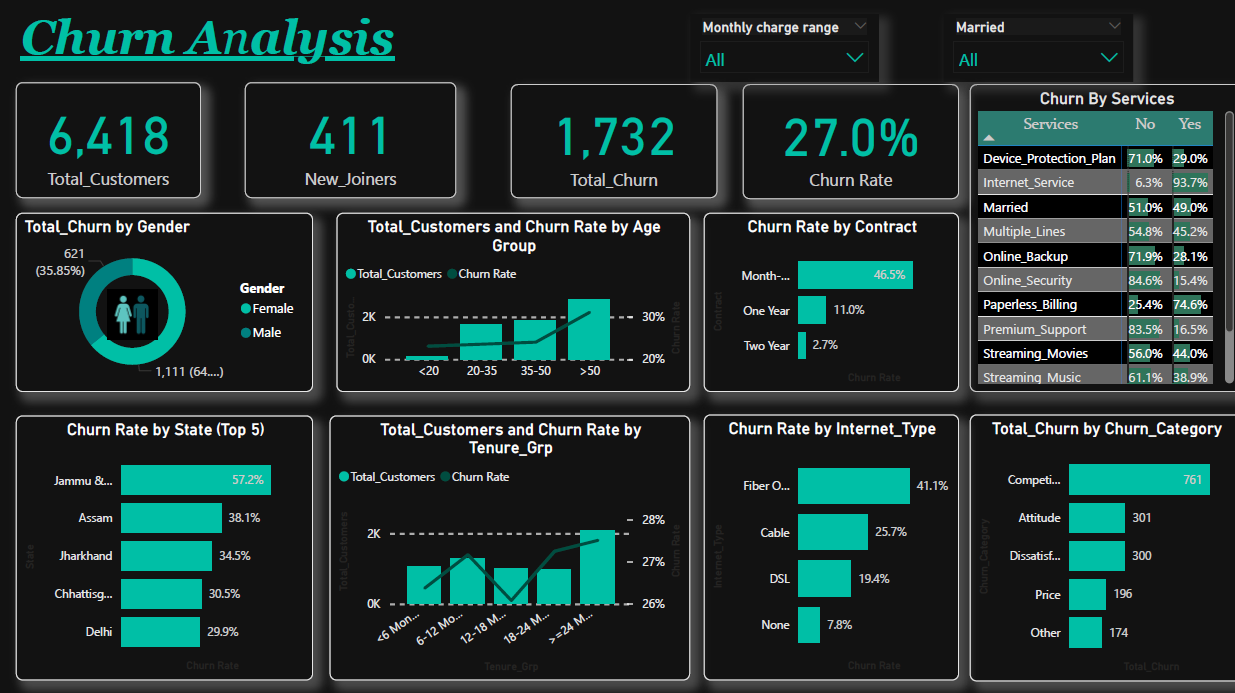

The page's visual inventory and layout, read from the dashboard file:
{"tool":"powerbi","page":{"name":"Summary","canvas":[1280,720],"ordinal":0},"visuals":[{"type":"card","fields":{"Values":["tbl_measures.Total_Customers"]},"box":[20.8,86.3,190.1,118.2],"z":0},{"type":"card","fields":{"Values":["tbl_measures.New_Joiners"]},"box":[255.6,86.3,217.3,118.2],"z":1000},{"type":"card","fields":{"Values":["tbl_measures.Total_Churn"]},"box":[528.8,87.9,212.5,116.6],"z":2000},{"type":"card","fields":{"Values":["tbl_measures.Churn Rate"]},"box":[766.9,87.9,222.1,118.2],"z":3000},{"type":"lineStackedColumnComboChart","fields":{"Category":["mapping_age_grp.Age Group"],"Y":["tbl_measures.Total_Customers"],"Y2":["tbl_measures.Churn Rate"]},"box":[349.9,220.5,362.7,183.7],"z":5000},{"type":"clusteredBarChart","fields":{"Y":["tbl_measures.Churn Rate"],"Category":["prod_Churn.Contract"]},"box":[726.9,220.5,262,183.7],"z":6000},{"type":"donutChart","fields":{"Y":["tbl_measures.Total_Churn"],"Series":["prod_Churn.Gender"]},"box":[20.8,220.5,305.2,183.7],"z":6500},{"type":"lineStackedColumnComboChart","fields":{"Y":["tbl_measures.Total_Customers"],"Y2":["tbl_measures.Churn Rate"],"Category":["mapping_tenure_grp.Tenure_Grp"]},"box":[343.5,428.2,369.1,271.6],"z":7000},{"type":"clusteredBarChart","title":"Churn Rate by State (Top 5)","fields":{"Category":["prod_Churn.State"],"Y":["tbl_measures.Churn Rate"]},"box":[20.8,428.2,305.2,271.6],"z":8000},{"type":"clusteredBarChart","fields":{"Y":["tbl_measures.Total_Churn"],"Category":["prod_Churn.Churn_Category"]},"box":[1000.1,426.6,279.6,274.8],"z":9000},{"type":"clusteredBarChart","fields":{"Category":["prod_Churn.Internet_Type"],"Y":["tbl_measures.Churn Rate"]},"box":[726.9,426.6,262,273.2],"z":10000},{"type":"image","box":[106,294,81.5,65.5],"z":10500},{"type":"pivotTable","title":"Churn By Services","fields":{"Rows":["prod_services.Services"],"Columns":["prod_services.Status"],"Values":["Sum(prod_services.Churn_Status)"]},"box":[1000.1,87.9,279.6,316.3],"z":11000},{"type":"slicer","fields":{"Values":["prod_Churn.Monthly charge status"]},"box":[712.6,16,194.9,70.3],"z":12000},{"type":"slicer","fields":{"Values":["prod_Churn.Married"]},"box":[973,16,194.9,70.3],"z":13000},{"type":"textbox","box":[20.8,8,436.2,113.4],"z":15000}]}

Visuals, with their boxes in screenshot pixels (x1, y1, x2, y2), scaled from the page's 1280x720 canvas onto the 1235x693 screenshot:
card - tbl_measures.Total_Customers: {"x1": 20, "y1": 83, "x2": 203, "y2": 197}
card - tbl_measures.New_Joiners: {"x1": 247, "y1": 83, "x2": 456, "y2": 197}
card - tbl_measures.Total_Churn: {"x1": 510, "y1": 85, "x2": 715, "y2": 197}
card - tbl_measures.Churn Rate: {"x1": 740, "y1": 85, "x2": 954, "y2": 198}
lineStackedColumnComboChart - mapping_age_grp.Age Group x tbl_measures.Total_Customers: {"x1": 338, "y1": 212, "x2": 688, "y2": 389}
clusteredBarChart - tbl_measures.Churn Rate x prod_Churn.Contract: {"x1": 701, "y1": 212, "x2": 954, "y2": 389}
donutChart - tbl_measures.Total_Churn x prod_Churn.Gender: {"x1": 20, "y1": 212, "x2": 315, "y2": 389}
lineStackedColumnComboChart - tbl_measures.Total_Customers x tbl_measures.Churn Rate: {"x1": 331, "y1": 412, "x2": 688, "y2": 674}
"Churn Rate by State (Top 5)" clusteredBarChart: {"x1": 20, "y1": 412, "x2": 315, "y2": 674}
clusteredBarChart - tbl_measures.Total_Churn x prod_Churn.Churn_Category: {"x1": 965, "y1": 411, "x2": 1234, "y2": 675}
clusteredBarChart - prod_Churn.Internet_Type x tbl_measures.Churn Rate: {"x1": 701, "y1": 411, "x2": 954, "y2": 674}
image: {"x1": 102, "y1": 283, "x2": 181, "y2": 346}
"Churn By Services" pivotTable: {"x1": 965, "y1": 85, "x2": 1234, "y2": 389}
slicer - prod_Churn.Monthly charge status: {"x1": 688, "y1": 15, "x2": 876, "y2": 83}
slicer - prod_Churn.Married: {"x1": 939, "y1": 15, "x2": 1127, "y2": 83}
textbox: {"x1": 20, "y1": 8, "x2": 441, "y2": 117}
